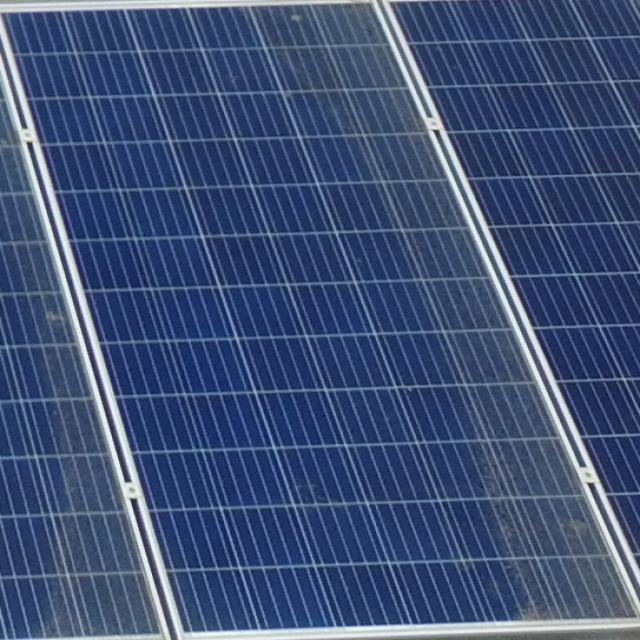Dust: (286, 8, 504, 291), (427, 357, 625, 613), (19, 321, 174, 635)
